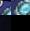bomb: (11, 15, 30, 31)
mirror: (11, 0, 30, 15), (0, 0, 11, 15)
